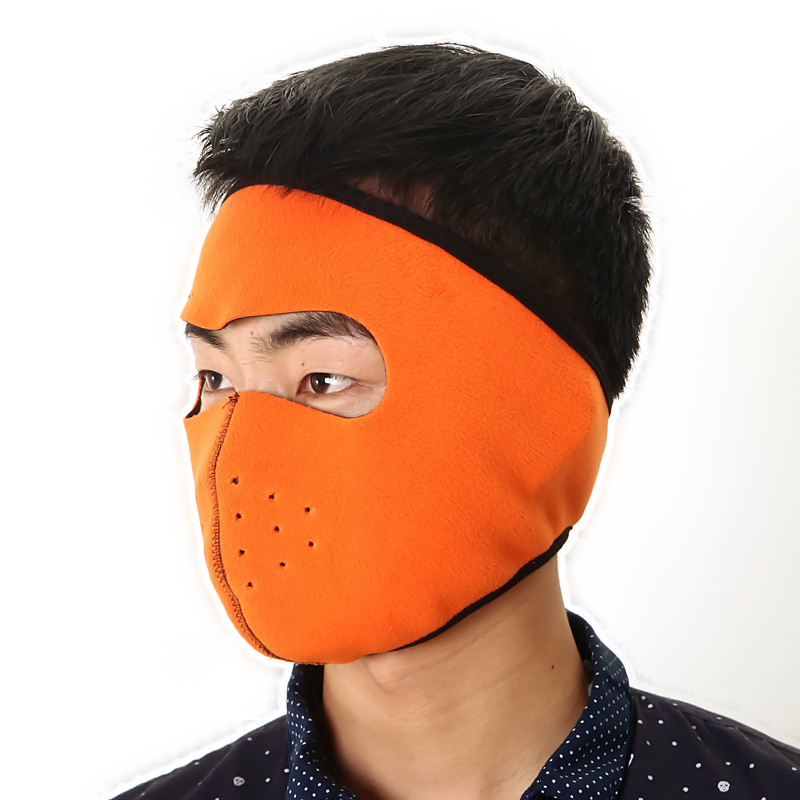face_mask: (184, 245, 468, 652)
